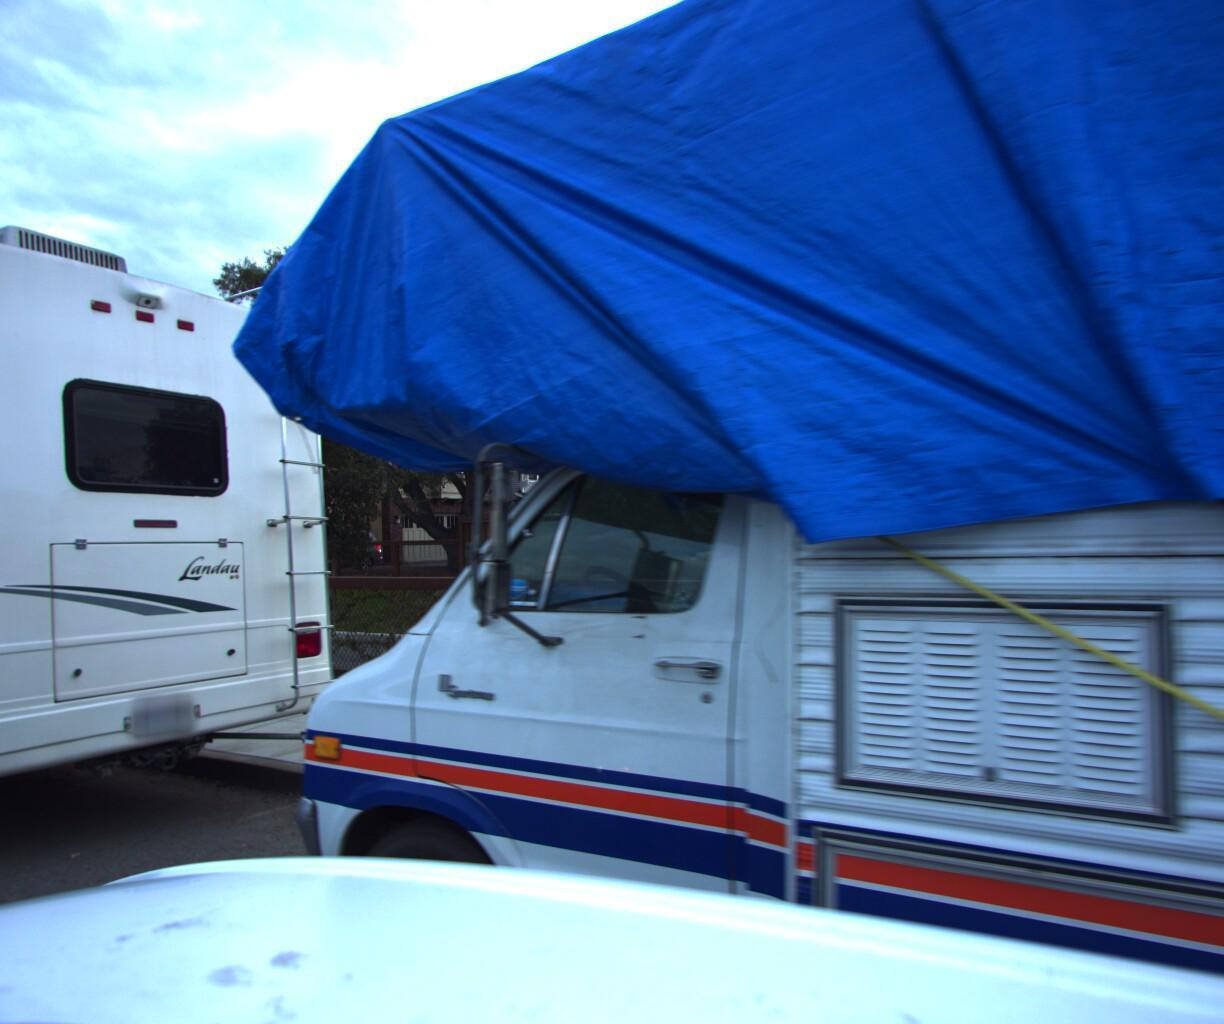bus: (0, 43, 368, 977)
